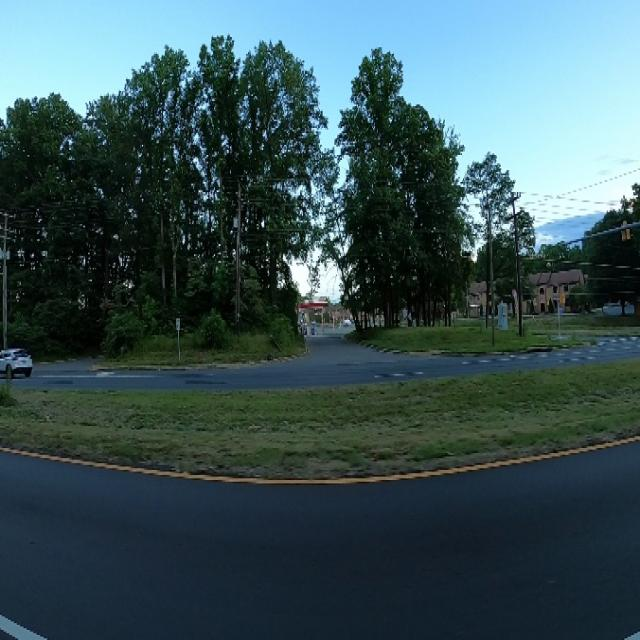cars: (0, 334, 39, 386)
